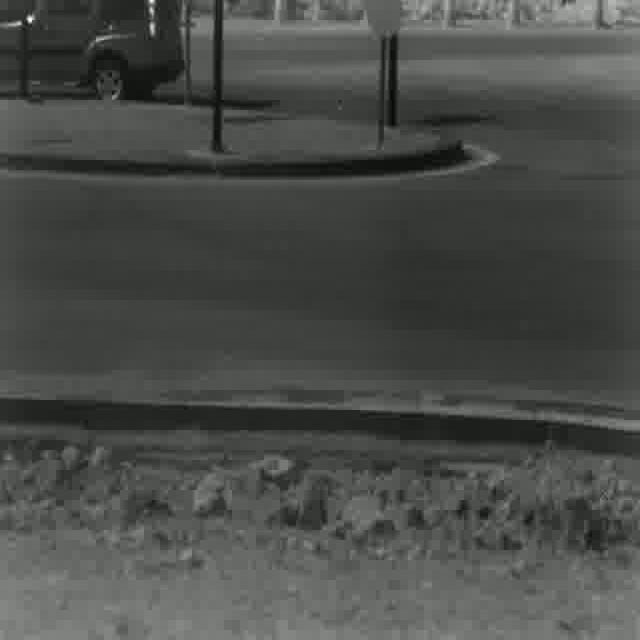Car: (0, 0, 184, 101)
